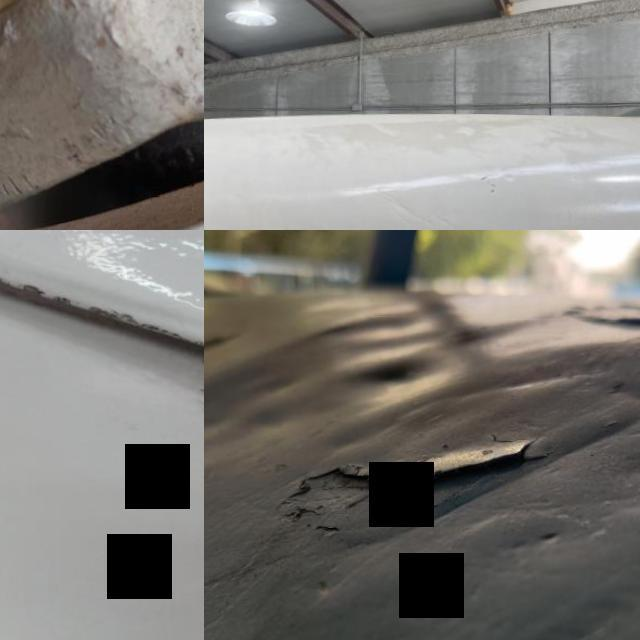Crack: (267, 424, 559, 536), (0, 230, 186, 354), (185, 379, 204, 462)
Dent: (326, 324, 466, 424), (502, 171, 520, 180)
